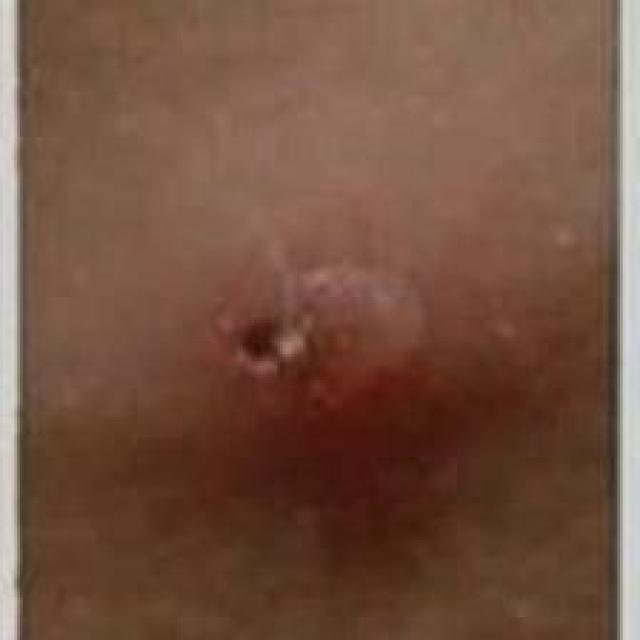others: (4, 0, 616, 639)
